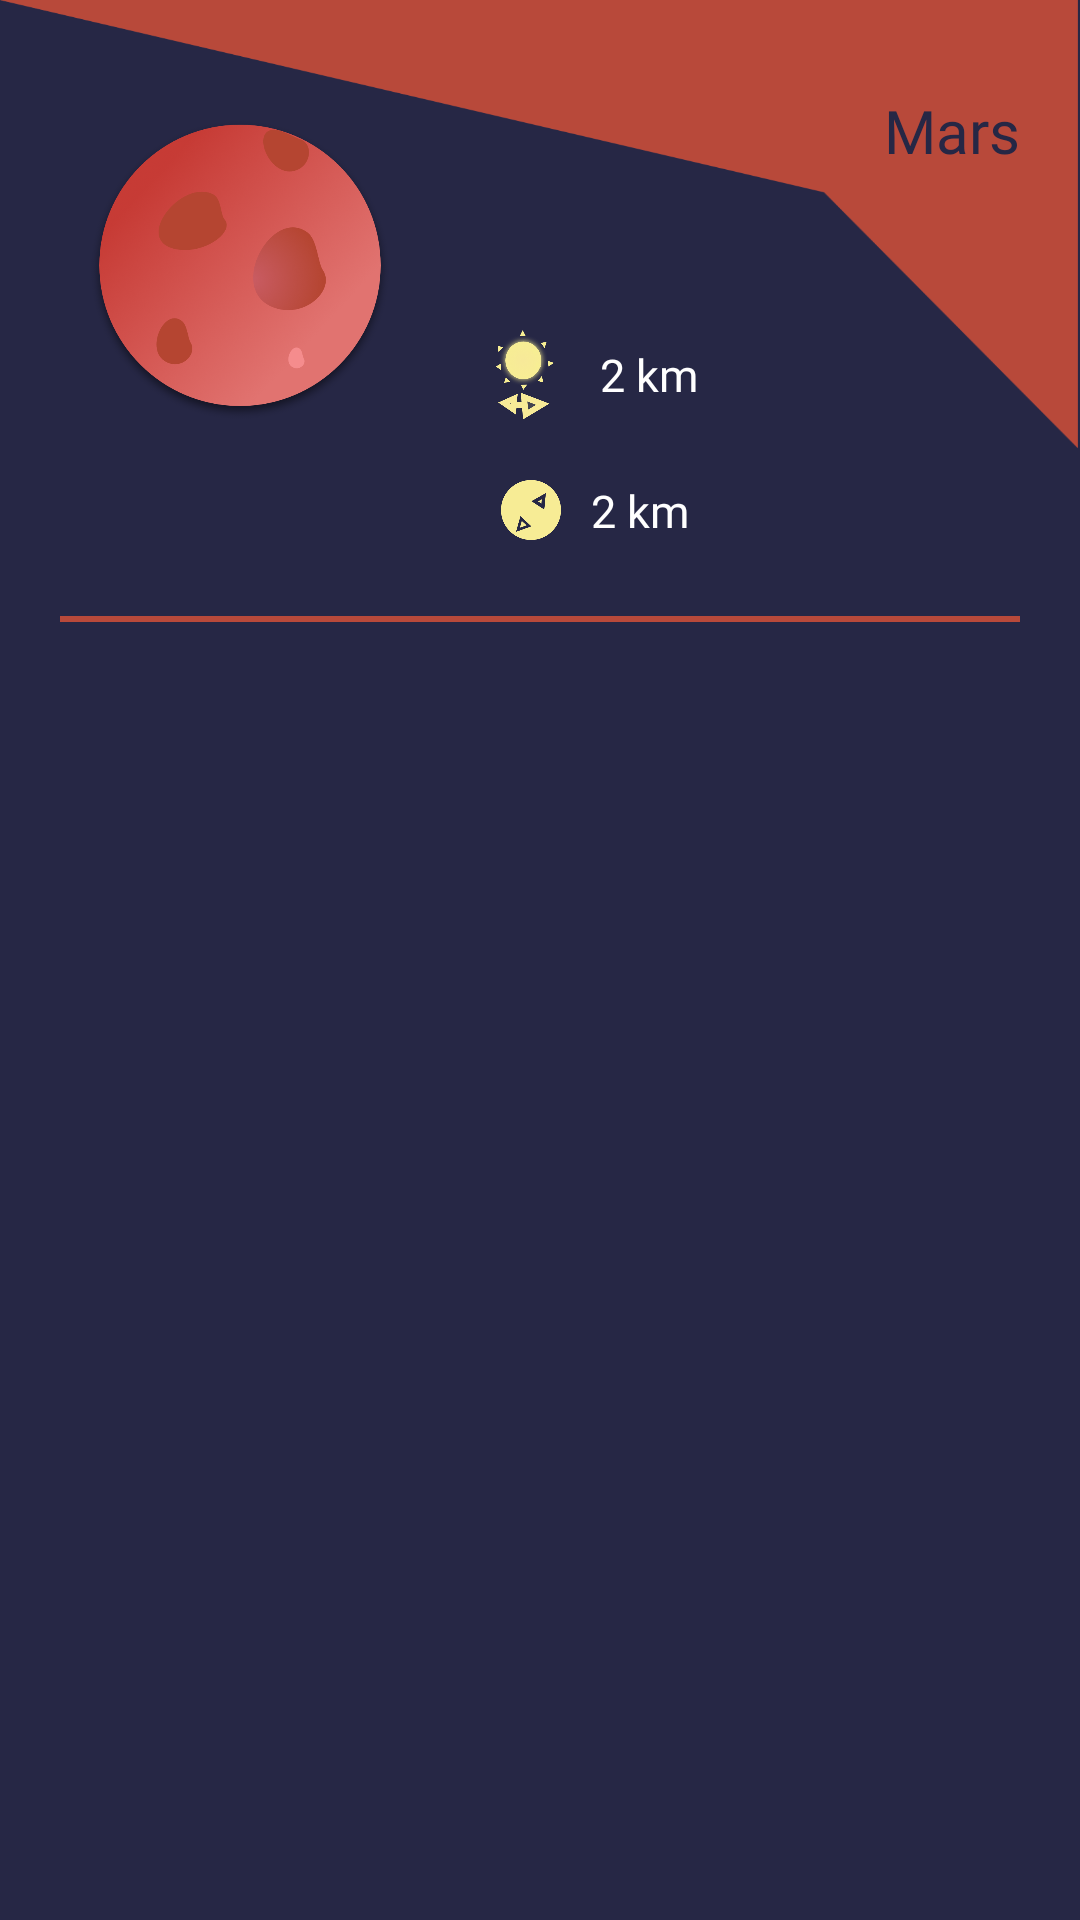

Where icons sit on this 1080px x 1920px app screen, as (x1, y1, x2, y2):
diameter: (501, 480, 561, 540)
distance: (496, 330, 553, 419)
mars: (99, 125, 381, 408)
